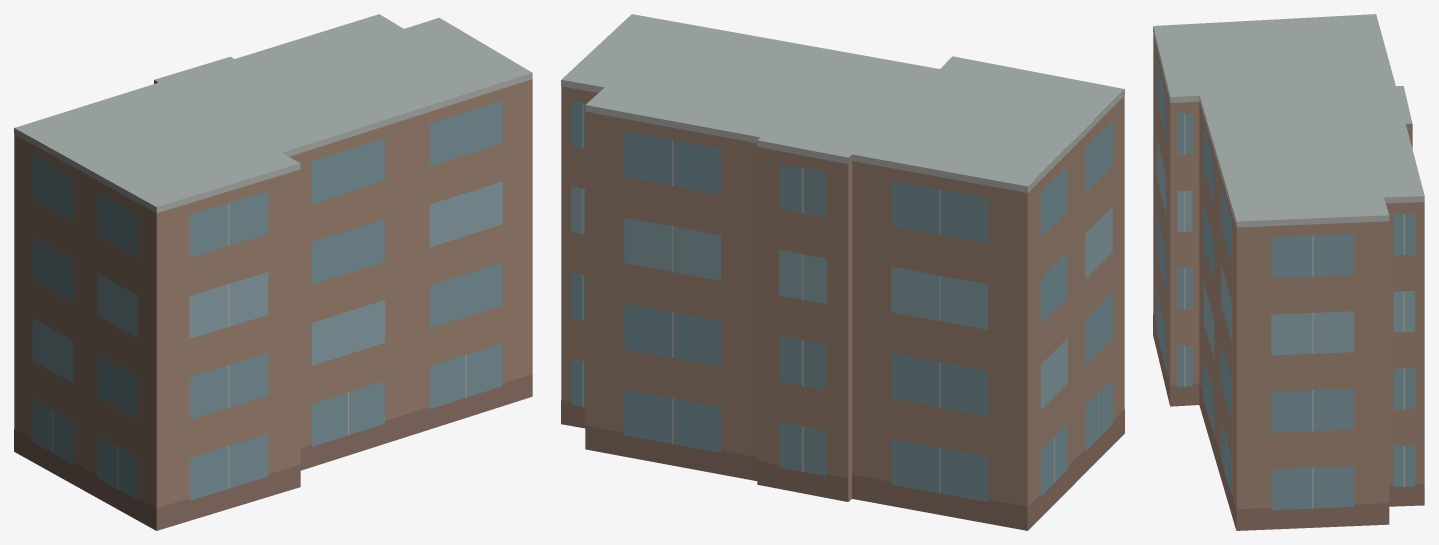
The model's file is survey-upis-32995829.glb.
3 views of the same model, side by side, from view 1: azimuth 30°, elevation 25°; view 2: azimuth 150°, elevation 25°; view 3: azimuth 270°, elevation 25° (orthographic). The views are drawn at different scales.
Parts seen in each view (by area): view 1: survey-upis-32995829.tmp; view 2: survey-upis-32995829.tmp; view 3: survey-upis-32995829.tmp.
Part boxes in pixels (x1,y1,x2,y2): survey-upis-32995829.tmp: (14,14,532,530); survey-upis-32995829.tmp: (561,14,1124,530); survey-upis-32995829.tmp: (1153,14,1424,530).
Bounding box in the file's own units: 18.44 × 12.8 × 10.2.
